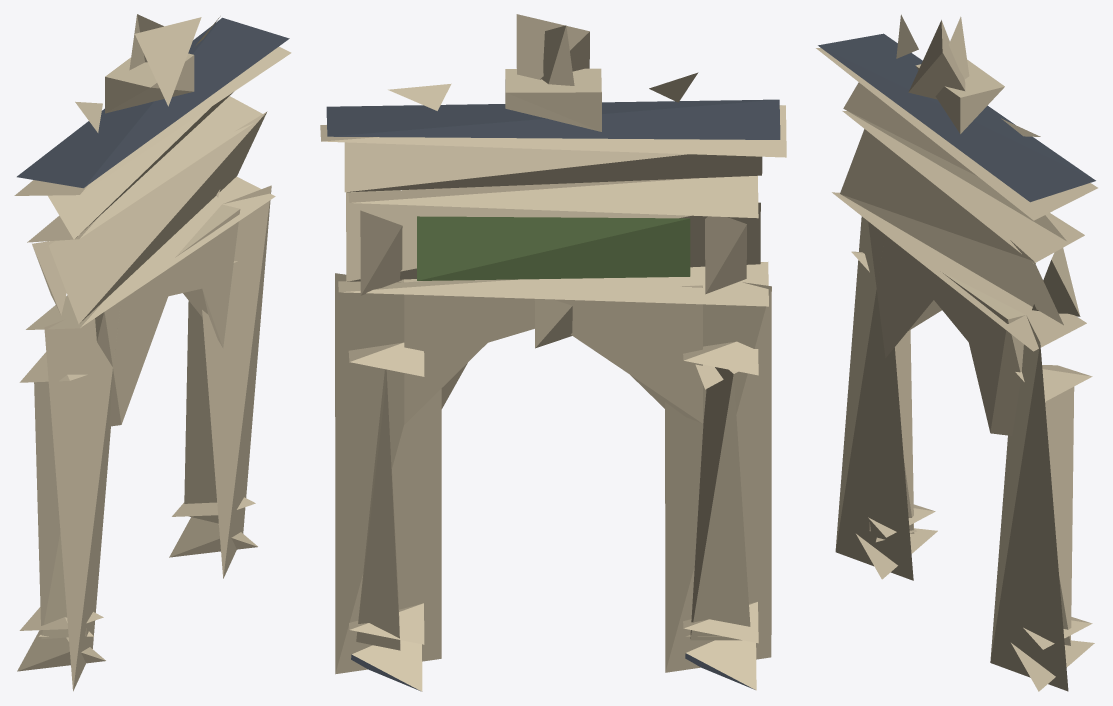
Rendered from rasphuispoort.lod2.glb.
3 views of the same model, side by side, from view 1: azimuth 30°, elevation 25°; view 2: azimuth 150°, elevation 25°; view 3: azimuth 270°, elevation 25° (orthographic). The views are drawn at different scales.
Visible parts, largest first — view 1: lod2; view 2: lod2; view 3: lod2.
Boxes of the visible parts, bbox=[...] form: lod2: bbox=[14, 14, 291, 691]; lod2: bbox=[320, 14, 786, 691]; lod2: bbox=[816, 14, 1097, 691].
Size of the model in its own units: 4.24 by 6.85 by 2.94.
